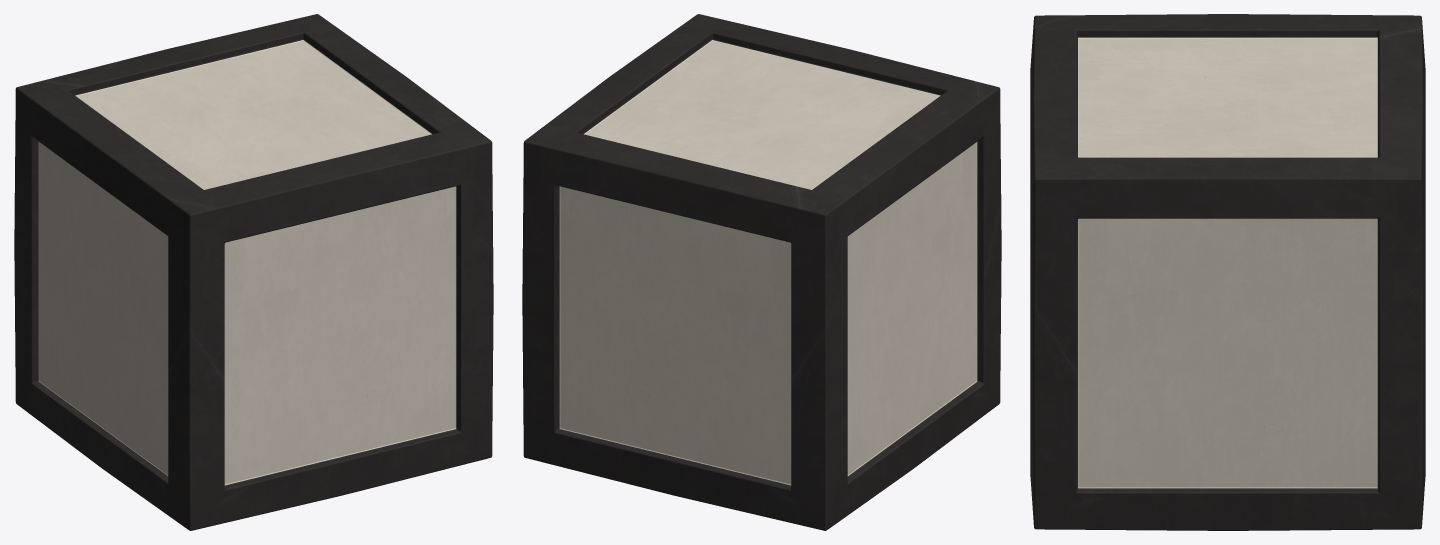
The model's file is Crate Basic.fbx.
3 renders of one model, left to right at view 1: azimuth 30°, elevation 25°; view 2: azimuth 150°, elevation 25°; view 3: azimuth 270°, elevation 25°, orthographic. The views are drawn at different scales.
Parts seen in each view (by area): view 1: Crate Basic; view 2: Crate Basic; view 3: Crate Basic.
Part boxes in pixels (bbox=[...]): Crate Basic: bbox=[14, 14, 493, 530]; Crate Basic: bbox=[522, 14, 1001, 530]; Crate Basic: bbox=[1030, 14, 1425, 530].
Bounding box in the file's own units: 0.9854 × 0.9854 × 0.9854.
